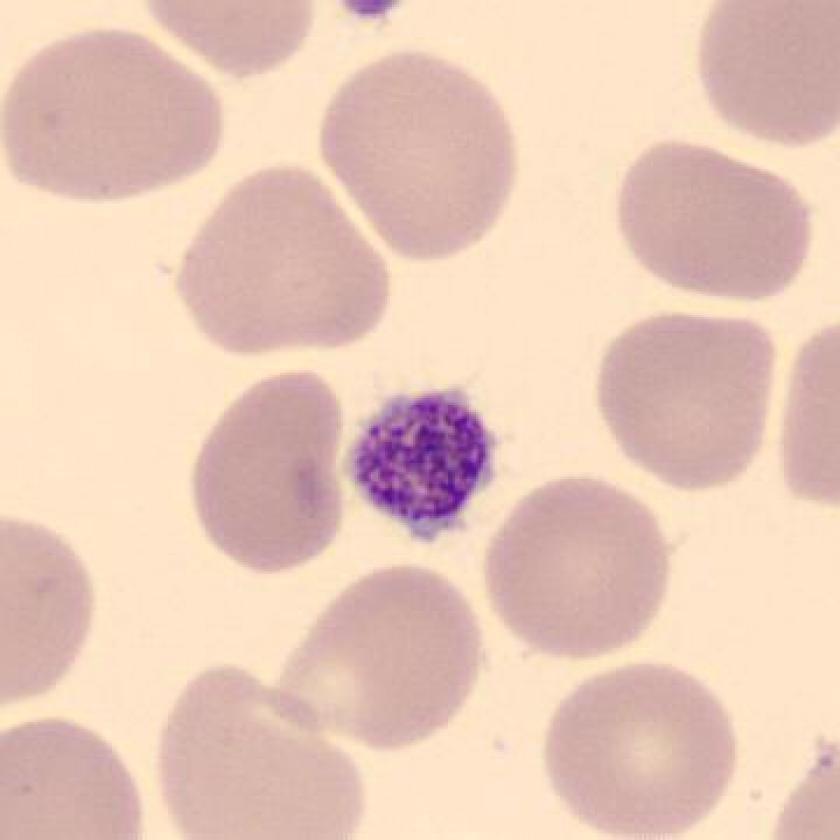platelets: (339, 371, 517, 552)
